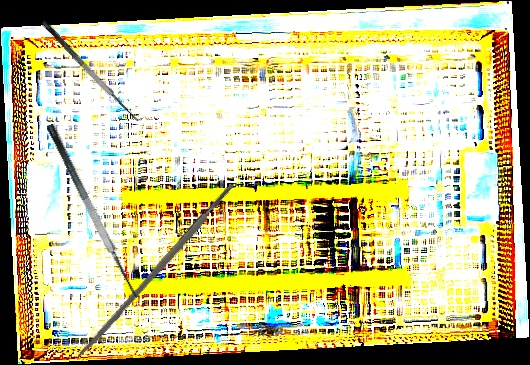Scalpel Handle: (75, 181, 238, 361)
Spatula Surgical: (44, 116, 151, 303), (39, 11, 148, 128)
